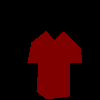abbigliamento_uomo: (27, 30, 82, 99)
